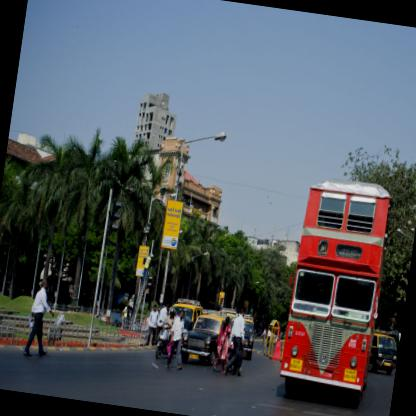bus: (304, 204, 404, 415)
car: (227, 369, 263, 415), (218, 353, 250, 399), (270, 371, 289, 415), (372, 379, 394, 415)
motorcycle: (206, 362, 230, 415)
